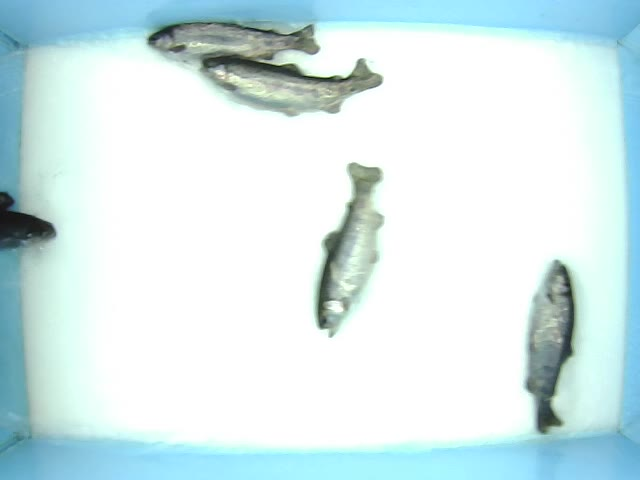fish: (310, 154, 389, 349), (510, 261, 582, 462), (201, 56, 395, 117), (138, 25, 348, 68)
